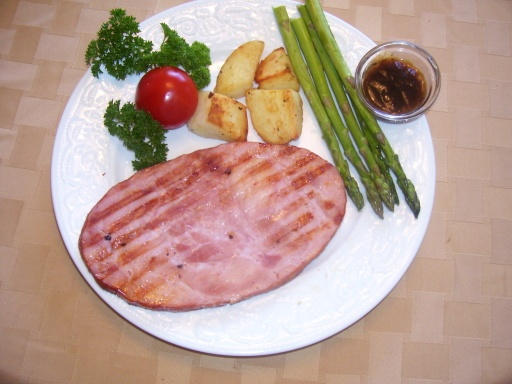background: (62, 0, 336, 187), (54, 31, 342, 69)
